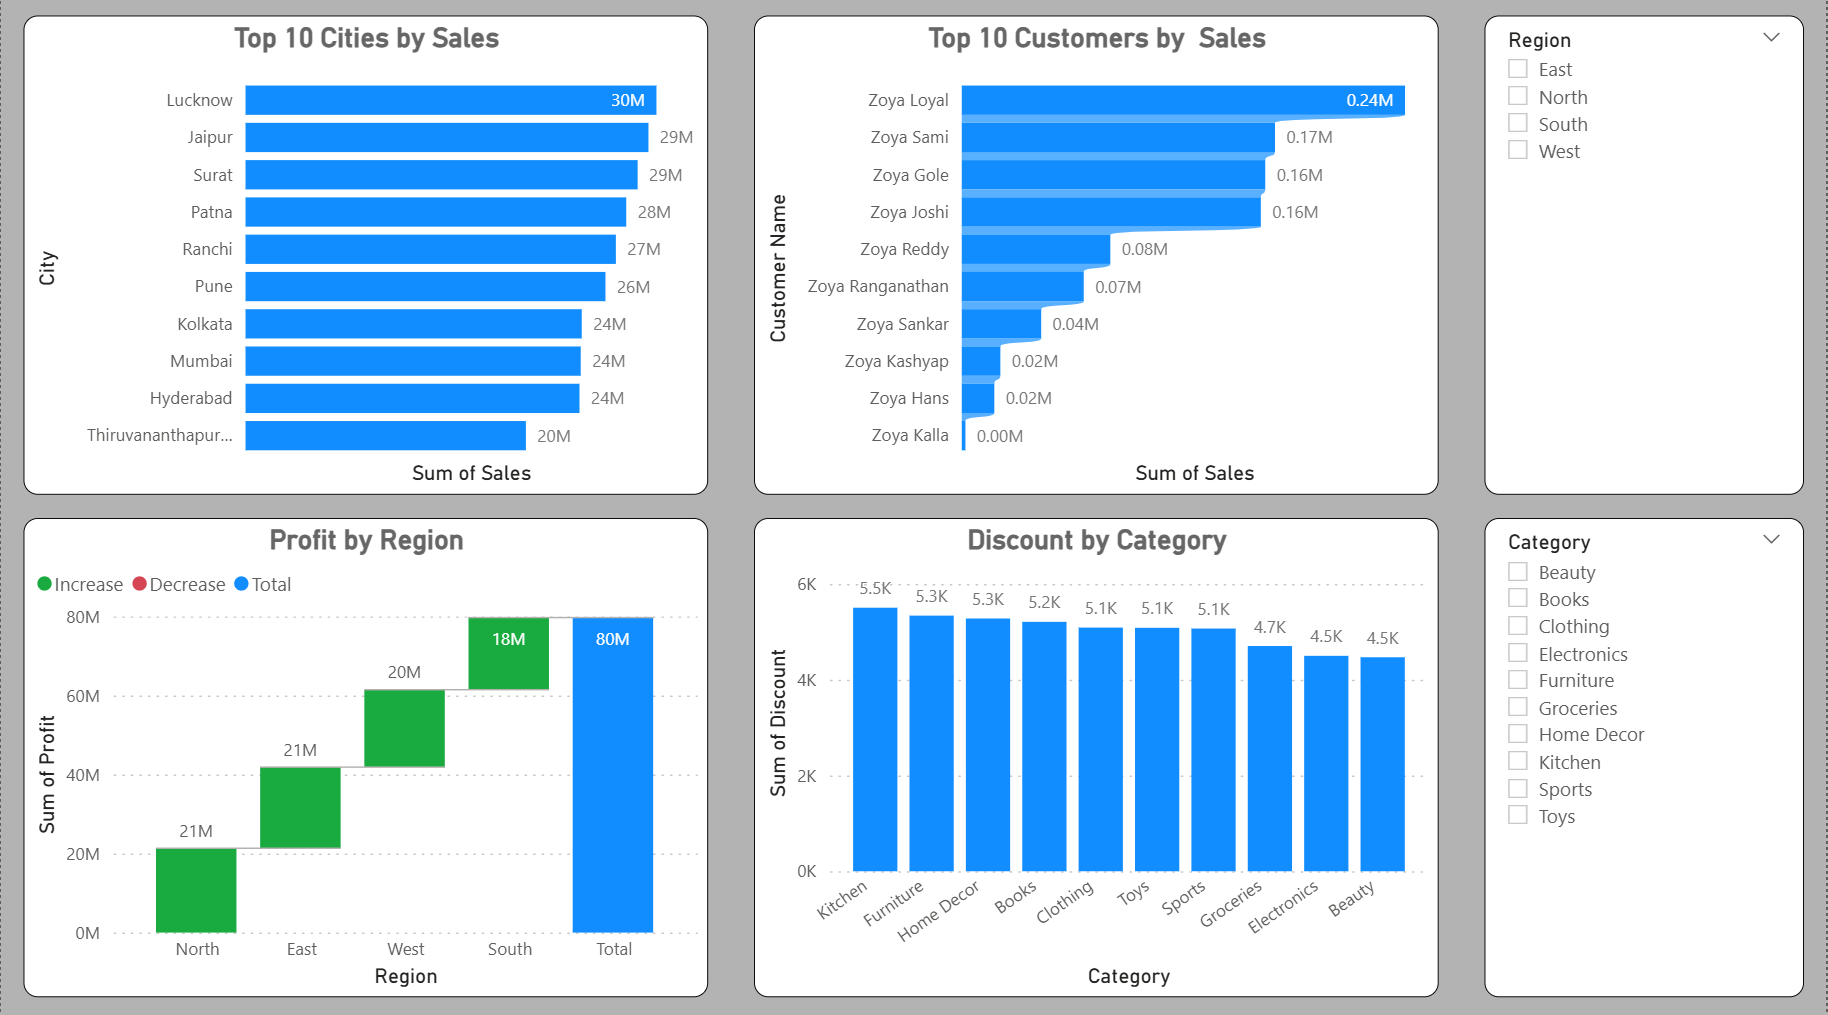

Layout of this report page (visuals, bound fields, positions):
{"tool":"powerbi","page":{"name":"Sales Analysis","canvas":[1280,720],"ordinal":1},"visuals":[{"type":"clusteredBarChart","title":"Top 10 Cities by Sales","fields":{"Category":["ecommerce_data - ecommerce_data.City"],"Y":["Sum(ecommerce_data - ecommerce_data.Sales)"]},"box":[16,16,480,336],"z":0},{"type":"barChart","title":"Top 10 Customers by  Sales","fields":{"Category":["ecommerce_data - ecommerce_data.Customer Name"],"Y":["Sum(ecommerce_data - ecommerce_data.Sales)"]},"box":[528,16,480,336],"z":1000},{"type":"waterfallChart","title":"Profit by Region","fields":{"Category":["ecommerce_data - ecommerce_data.Region"],"Y":["Sum(ecommerce_data - ecommerce_data.Profit)"]},"box":[16,368,480,336],"z":2000},{"type":"clusteredColumnChart","title":"Discount by Category","fields":{"Category":["ecommerce_data - ecommerce_data.Category"],"Y":["Sum(ecommerce_data - ecommerce_data.Discount)"]},"box":[528,368,480,336],"z":3000},{"type":"slicer","fields":{"Values":["ecommerce_data - ecommerce_data.Region"]},"box":[1040,16,224,336],"z":3001},{"type":"slicer","fields":{"Values":["ecommerce_data - ecommerce_data.Category"]},"box":[1040,368,224,336],"z":3002}]}

Visuals, with their boxes in screenshot pixels (x1, y1, x2, y2), scaled from the page's 1280x720 canvas onto the 1828x1015 screenshot:
"Top 10 Cities by Sales" clusteredBarChart: <box>23,23,708,496</box>
"Top 10 Customers by  Sales" barChart: <box>754,23,1440,496</box>
"Profit by Region" waterfallChart: <box>23,519,708,992</box>
"Discount by Category" clusteredColumnChart: <box>754,519,1440,992</box>
slicer - ecommerce_data - ecommerce_data.Region: <box>1485,23,1805,496</box>
slicer - ecommerce_data - ecommerce_data.Category: <box>1485,519,1805,992</box>
